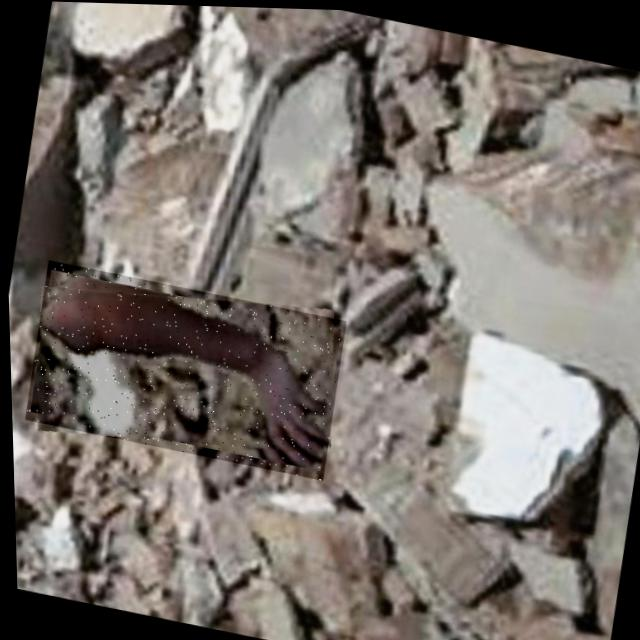Person in Rubble: (18, 258, 348, 478)
